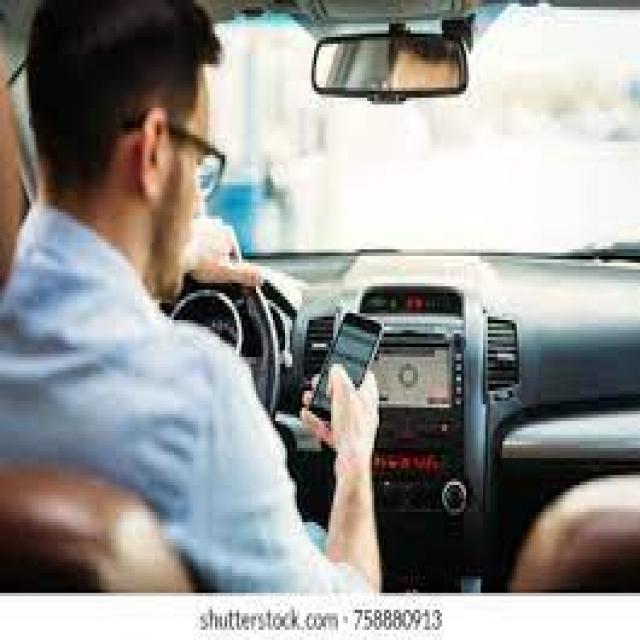Cellphone_texting: (299, 303, 389, 465)
